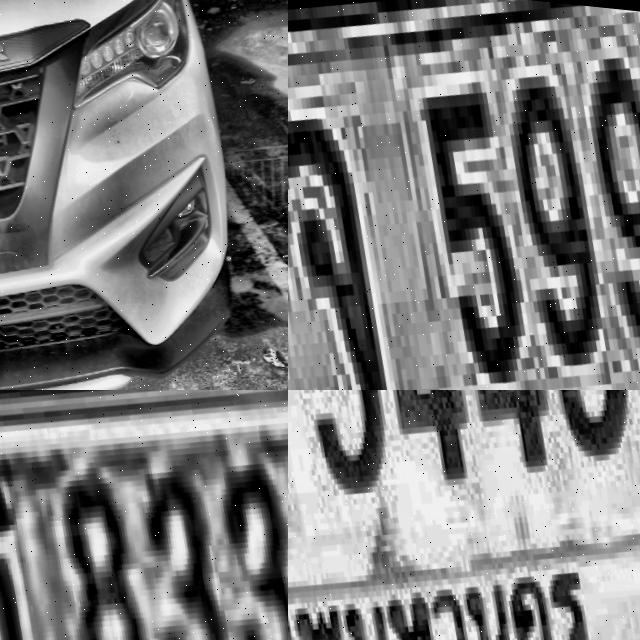license-plate: (288, 0, 640, 390), (288, 390, 640, 640), (0, 390, 288, 640)
